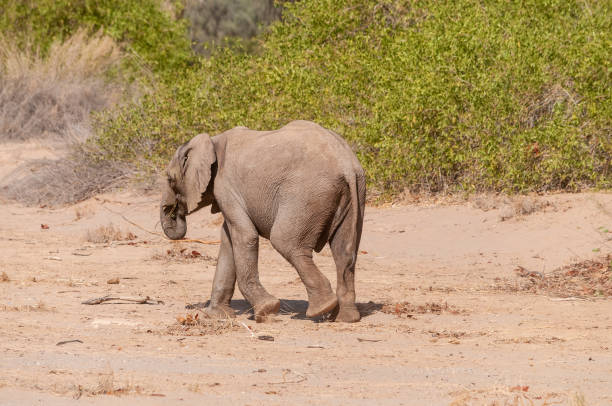africanelephant: (140, 130, 225, 228)
